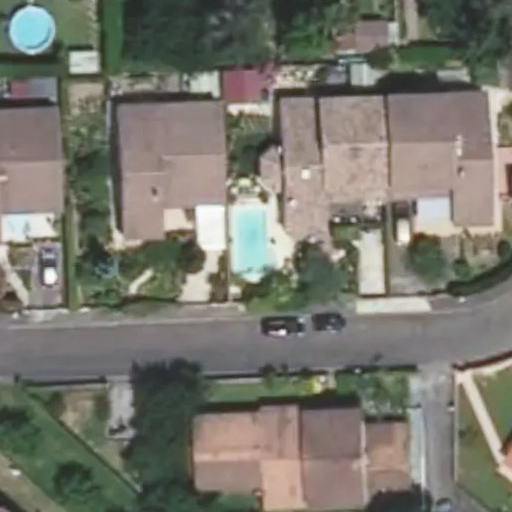pool: (231, 209, 280, 273)
